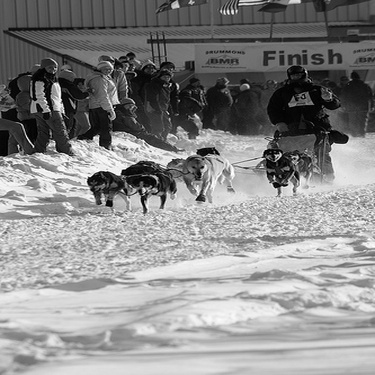dog: (180, 155, 239, 203), (85, 171, 133, 217), (261, 146, 303, 198), (116, 172, 169, 212), (282, 148, 324, 190), (120, 165, 176, 187), (163, 156, 191, 188), (255, 127, 285, 155), (193, 145, 224, 162), (131, 159, 163, 171)
